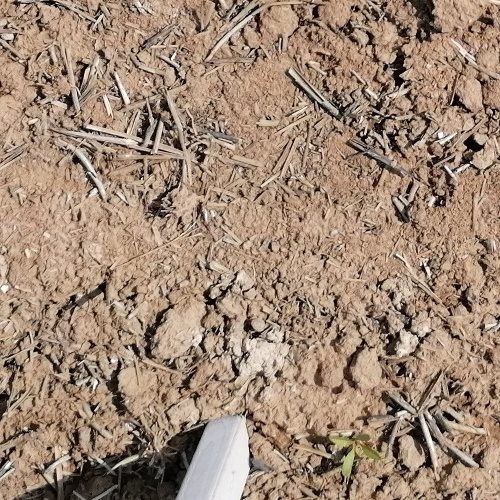beet: (329, 431, 382, 476)
